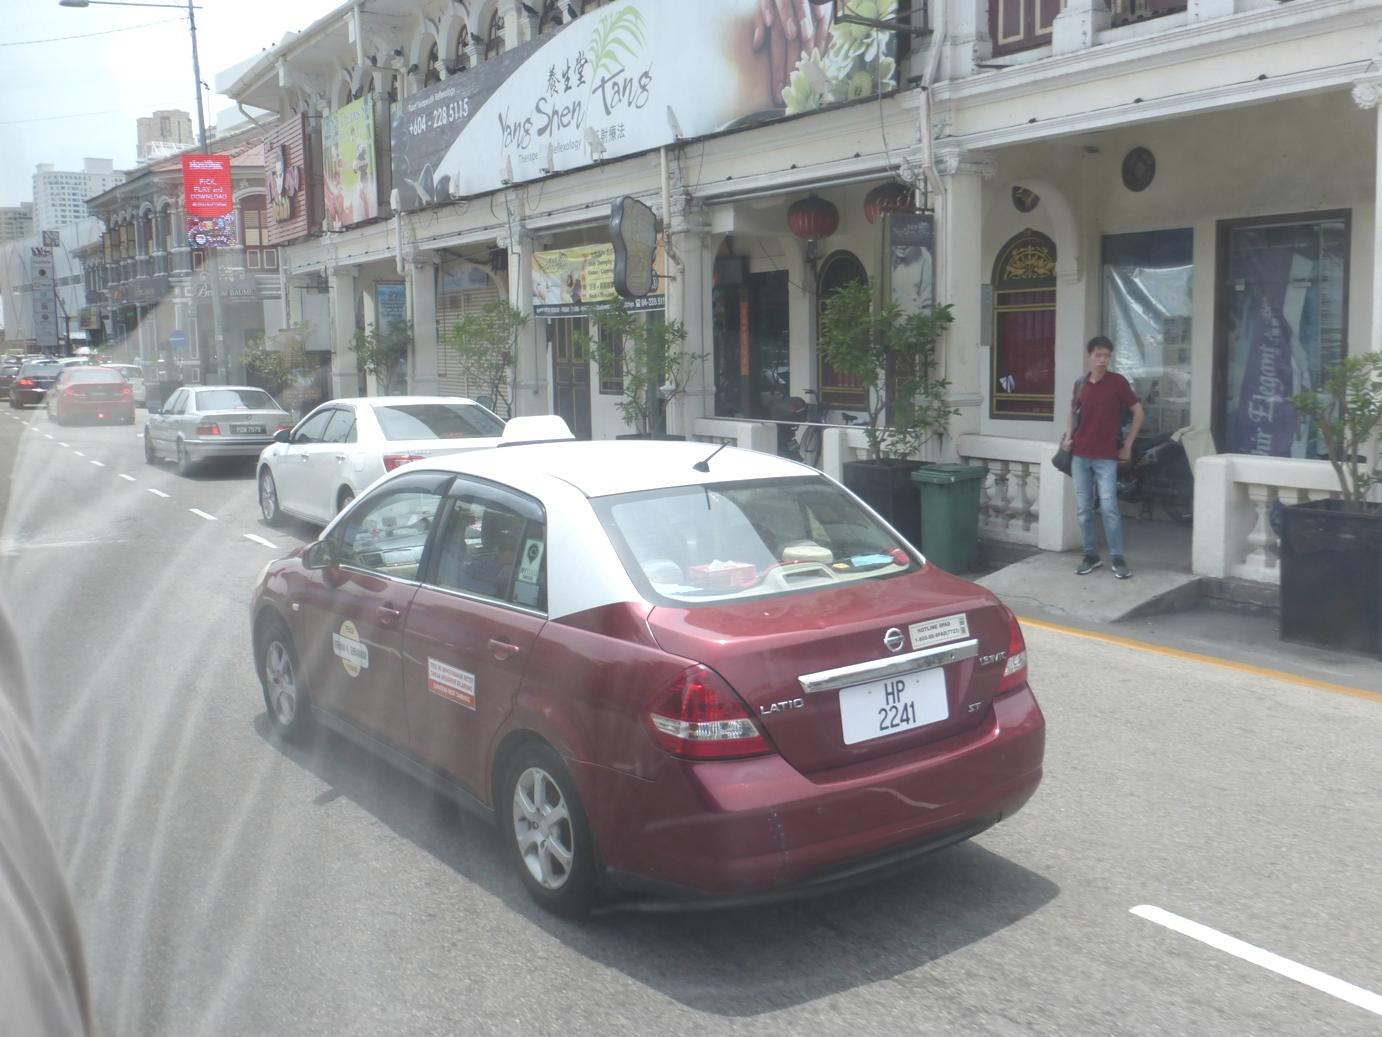License Plate: (841, 670, 951, 745)
